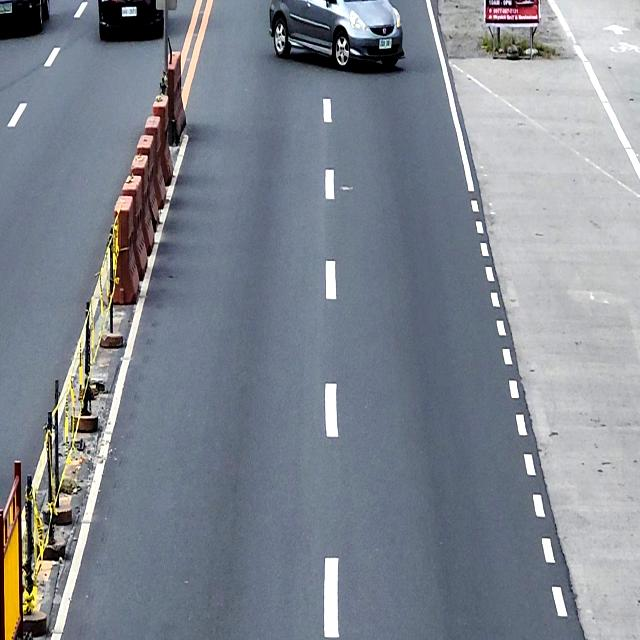Car: (268, 0, 404, 70), (98, 0, 165, 41), (0, 0, 51, 36)
License-Plate: (121, 6, 137, 18), (379, 38, 392, 51), (0, 2, 13, 14)
